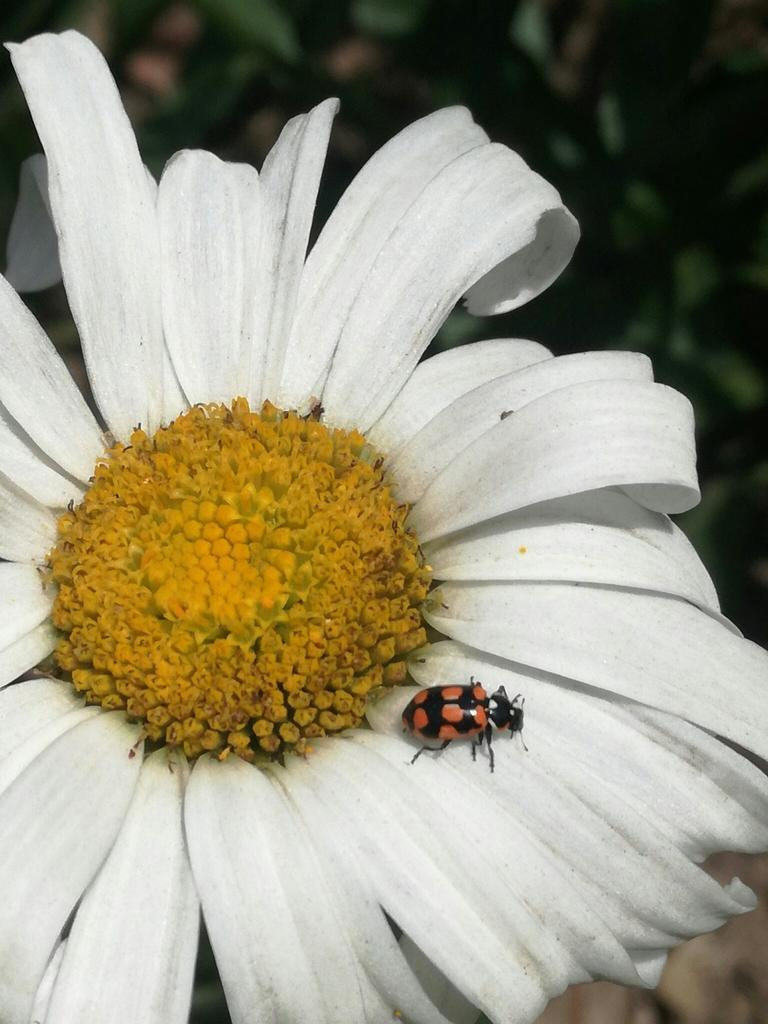ladybug: (399, 671, 534, 779)
